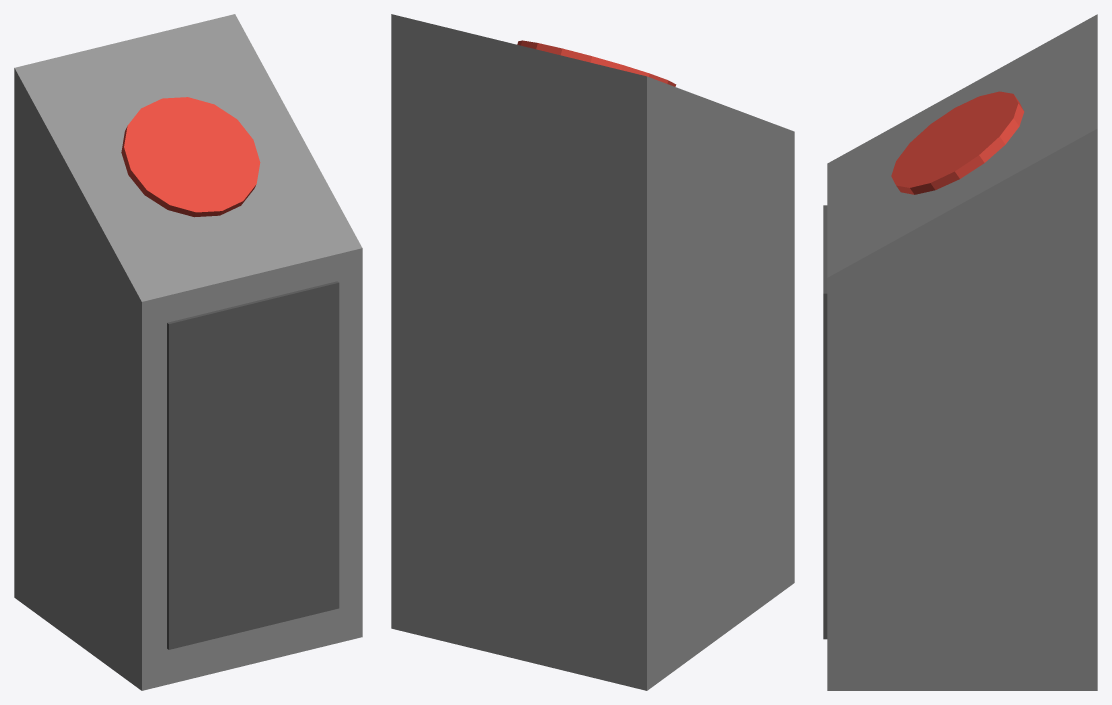
Rendered from button.fbx.
The picture shows the model from 3 angles, left to right: view 1: azimuth 30°, elevation 25°; view 2: azimuth 150°, elevation 25°; view 3: azimuth 270°, elevation 25°; orthographic projection. The views are drawn at different scales.
Parts seen in each view (by area): view 1: Cylinder; view 2: Cylinder; view 3: Cylinder.
Boxes of the visible parts, bbox=[...] form: Cylinder: bbox=[14, 14, 362, 690]; Cylinder: bbox=[391, 14, 794, 690]; Cylinder: bbox=[823, 14, 1097, 690].
Bounding box in the file's own units: 100 × 229 × 102.
